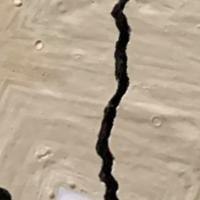crack: (70, 0, 150, 199)
